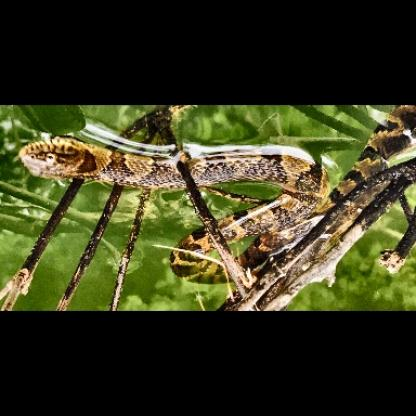Snake: (7, 124, 402, 297)
